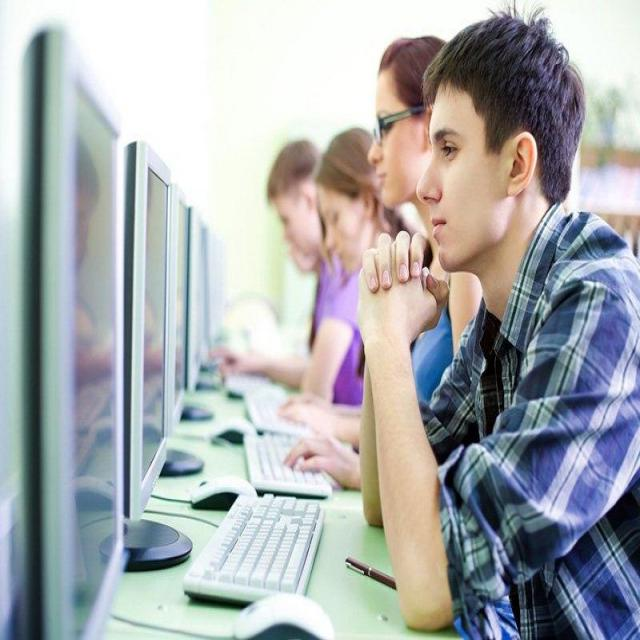person: (417, 0, 639, 588), (238, 95, 362, 411), (311, 91, 404, 391), (368, 14, 460, 251)
